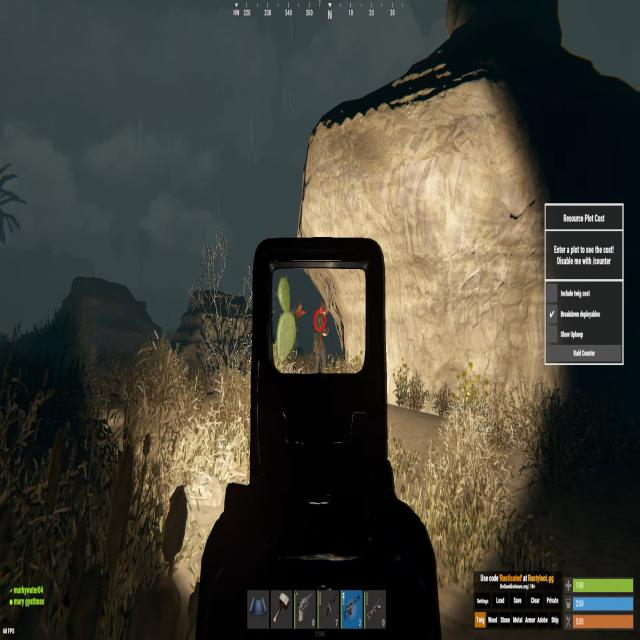Player: (311, 293, 333, 374)
